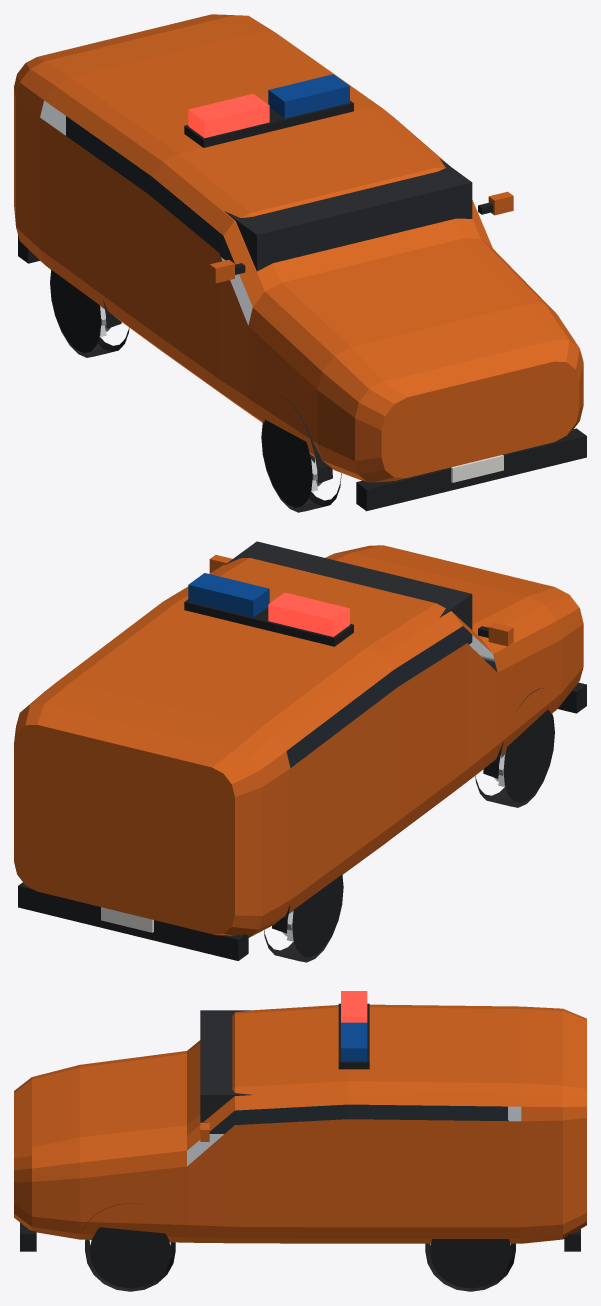
The model's file is police.glb.
3 renders of one model, top to bottom at view 1: azimuth 30°, elevation 25°; view 2: azimuth 150°, elevation 25°; view 3: azimuth 270°, elevation 25°, orthographic. The views are drawn at different scales.
Visible parts, largest first — view 1: body, wheel_FL, wheel_RL; view 2: body, wheel_FL, wheel_RL; view 3: body, wheel_FR, wheel_RR.
Boxes of the visible parts, box(x1,y1,x2,y2) form: body: box(14, 14, 586, 511); wheel_FL: box(261, 419, 341, 512); wheel_RL: box(50, 270, 129, 357); body: box(14, 541, 586, 960); wheel_FL: box(475, 709, 554, 807); wheel_RL: box(264, 875, 343, 962); body: box(14, 991, 586, 1251); wheel_FR: box(85, 1227, 175, 1291); wheel_RR: box(425, 1239, 515, 1291).
Size of the model in its own units: 2.32 by 2.09 by 4.8.
